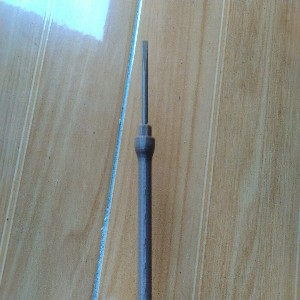obeng: (133, 37, 156, 300)
